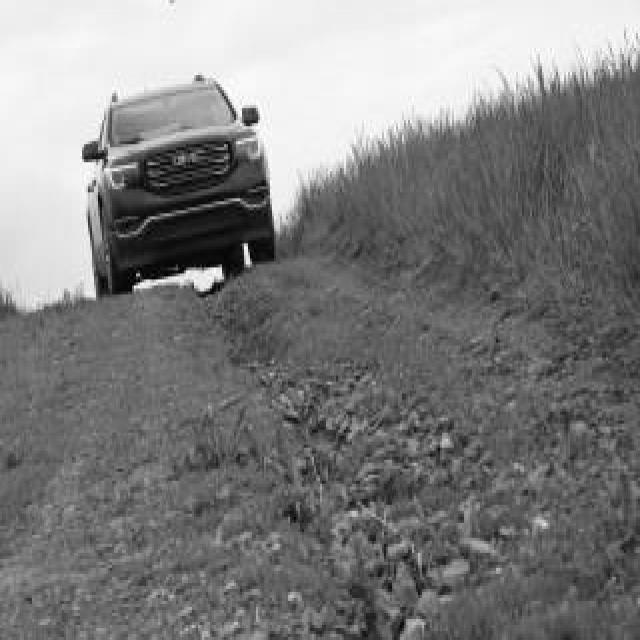Car: (83, 77, 275, 294)
